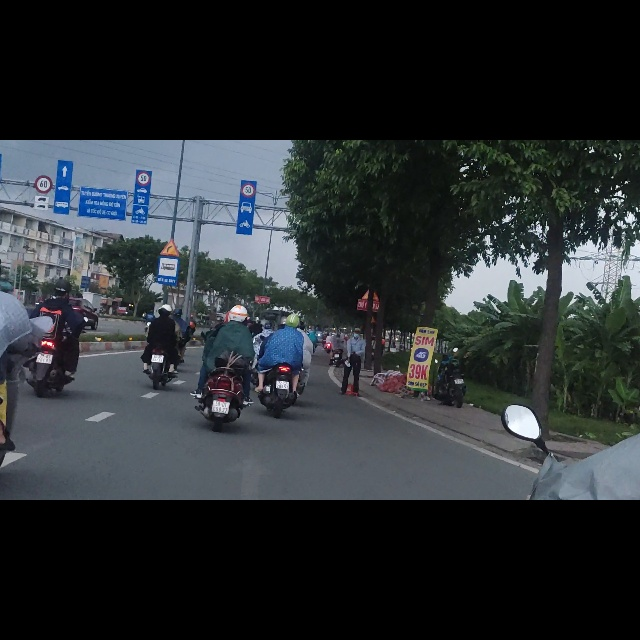bien_nguy_hiem: (156, 205, 179, 257), (160, 175, 179, 207), (34, 62, 52, 94), (34, 98, 49, 125), (241, 76, 255, 101), (137, 55, 150, 81)
